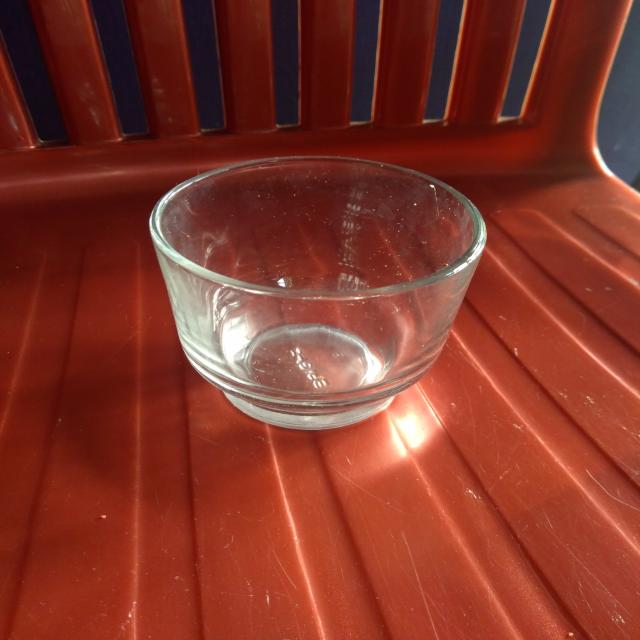Glass: (145, 152, 492, 434)
